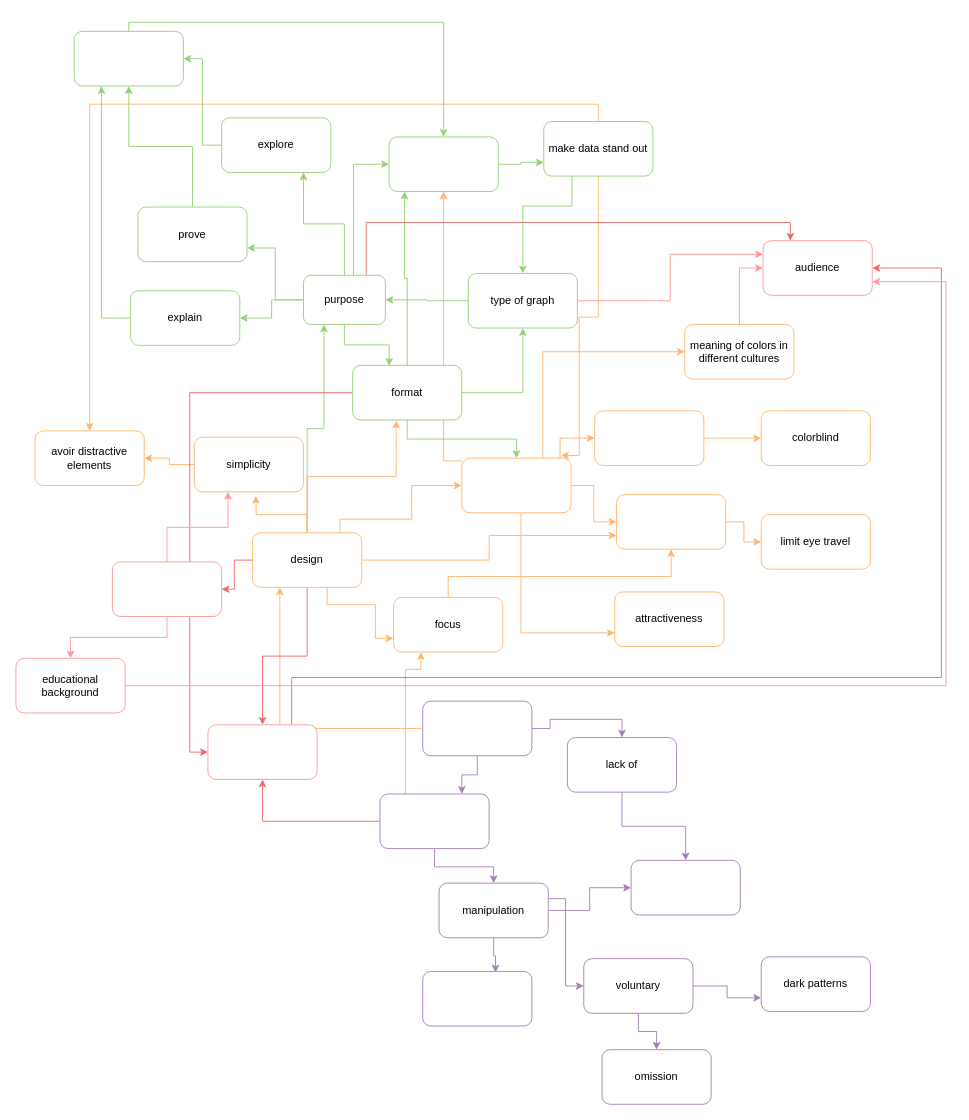
Image size: 969x1120. Some labels were removed from this diagram. The shapes that lost their labels are listed below. From the top down, each one's centre as x and y in pixels, then its label:
At pixel 128 58: "type of chart".
At pixel 443 164: "persuade".
At pixel 649 437: "palette".
At pixel 516 485: "color".
At pixel 671 521: "attention span".
At pixel 166 589: "understandability".
At pixel 477 728: "Data".
At pixel 262 751: "relevance".
At pixel 434 821: "which one to include or not".
At pixel 685 887: "data bias".
At pixel 477 998: "3 types of common manipulations".
